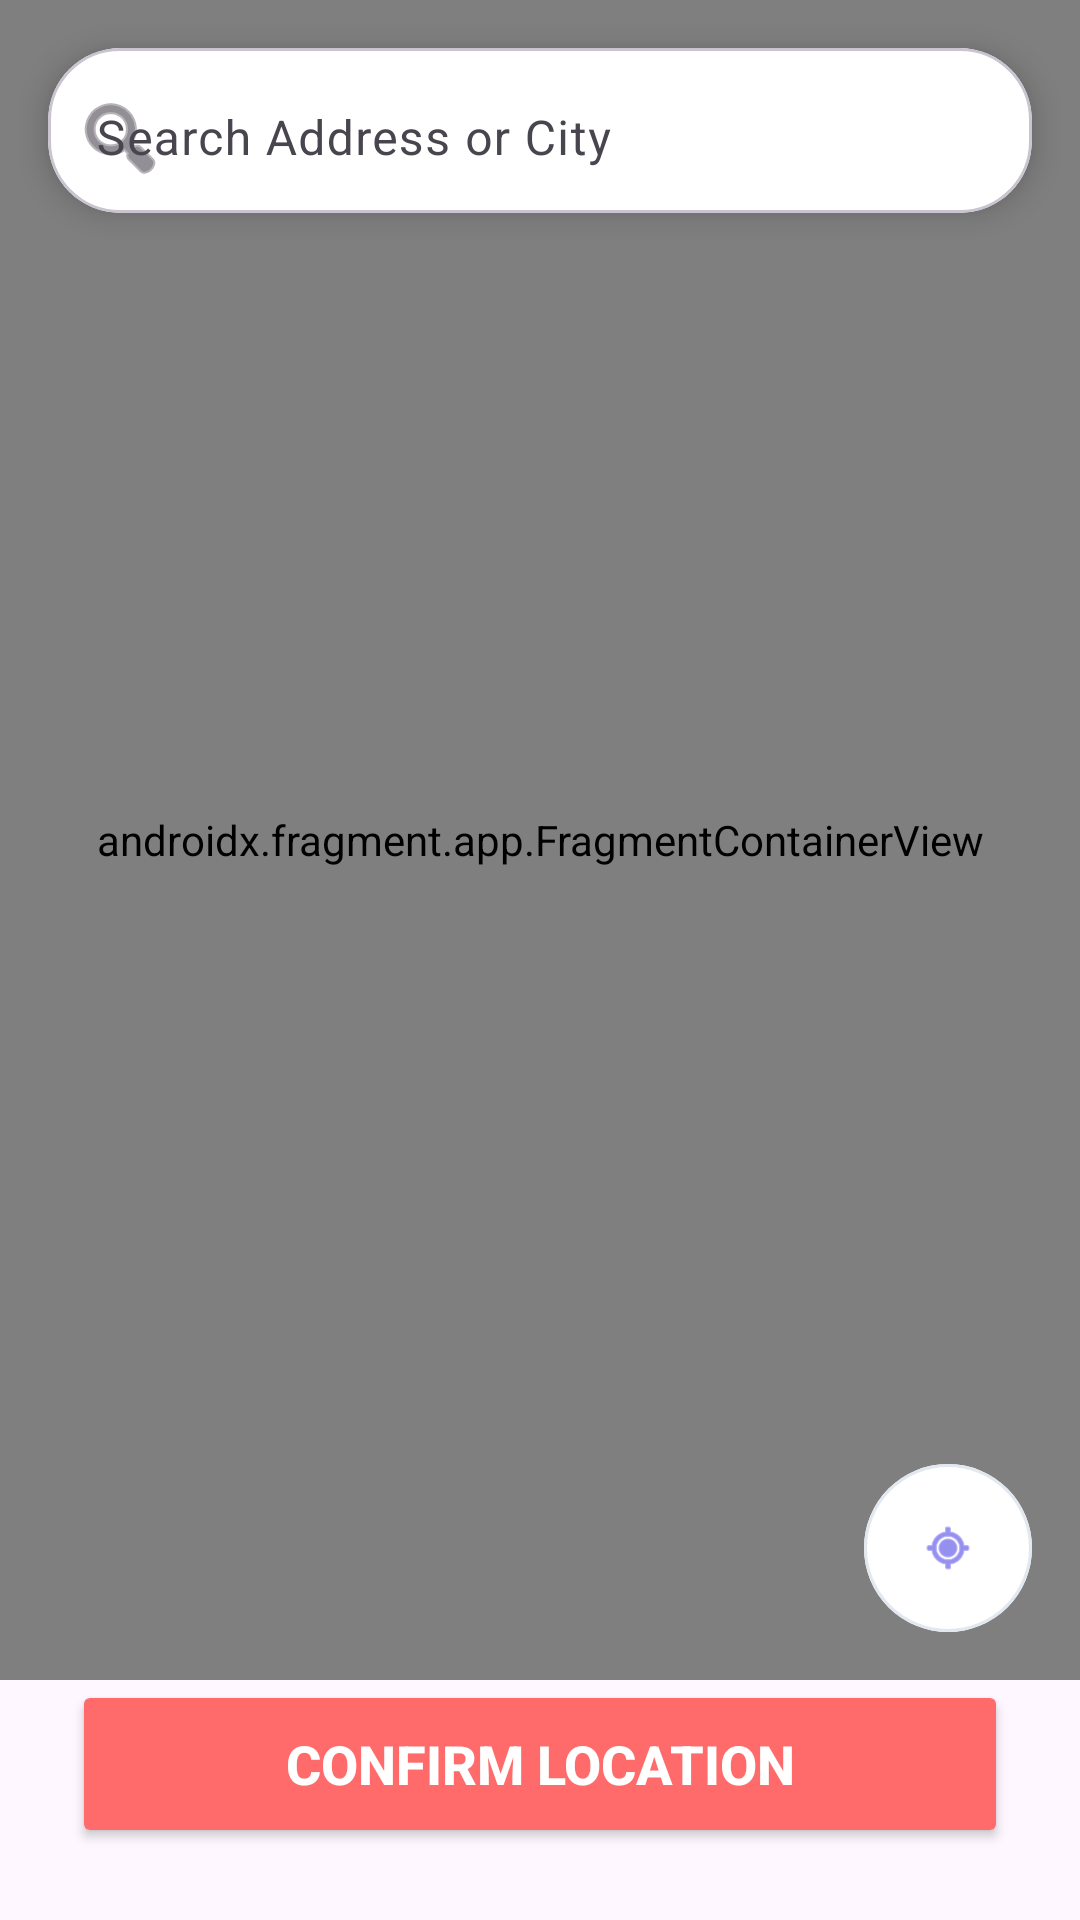

Screen size 1080px x 1920px. Icon name, then its center in pixels as [x,y]:
mylocation: [948,1548]
